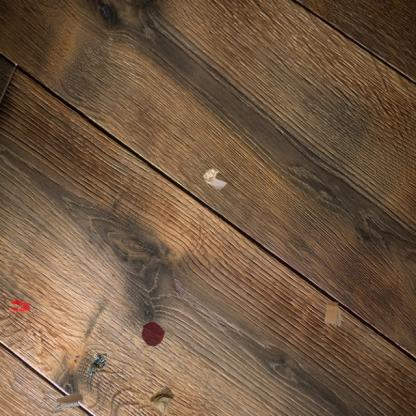dirty: (148, 384, 176, 416), (54, 390, 85, 412), (201, 167, 229, 191), (86, 350, 109, 377), (323, 299, 343, 328)
liquid: (140, 320, 166, 348), (7, 298, 31, 314)
